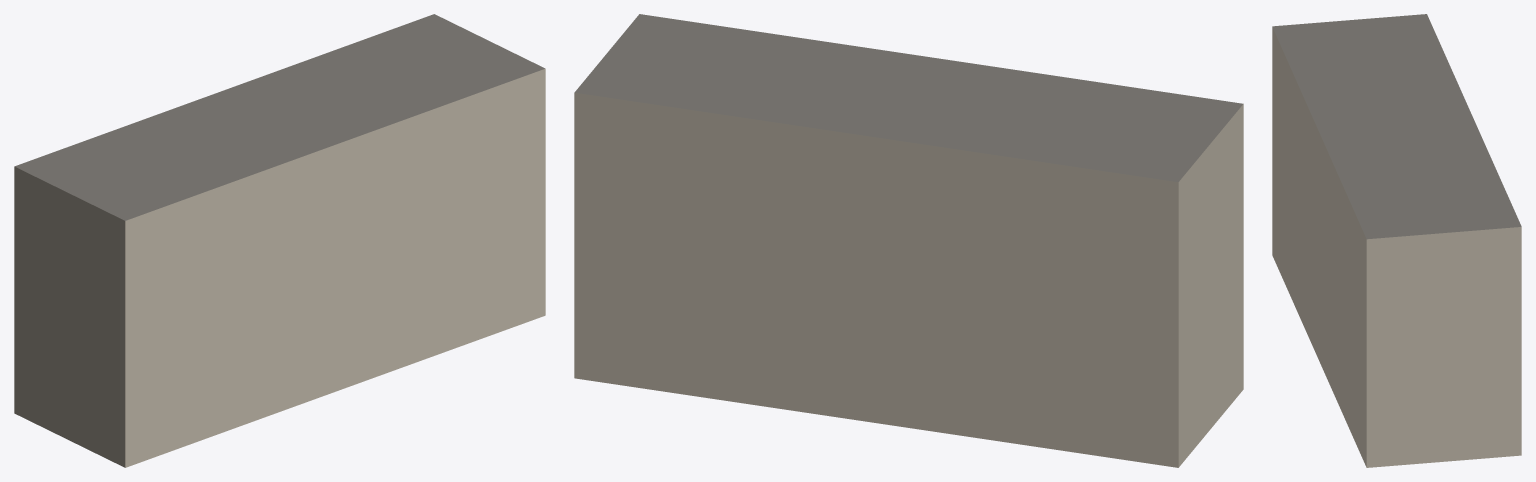
3 renders of one model, left to right at view 1: azimuth 30°, elevation 25°; view 2: azimuth 150°, elevation 25°; view 3: azimuth 270°, elevation 25°, orthographic. The views are drawn at different scales.
Parts seen in each view (by area): view 1: HP-w1286956107; view 2: HP-w1286956107; view 3: HP-w1286956107.
Boxes of the visible parts, bbox=[...] form: HP-w1286956107: bbox=[14, 14, 545, 467]; HP-w1286956107: bbox=[574, 14, 1243, 467]; HP-w1286956107: bbox=[1272, 14, 1521, 467].
Size of the model in its own units: 38.03 by 18 by 17.81.
